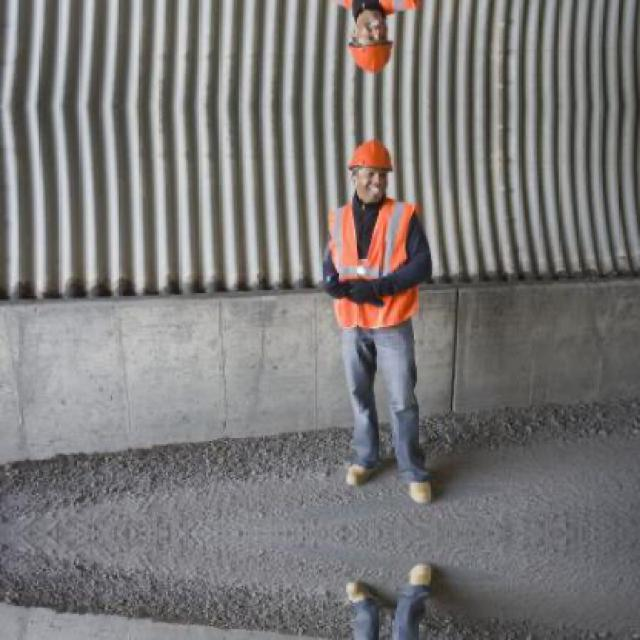safetyhelmet: (343, 141, 395, 200)
